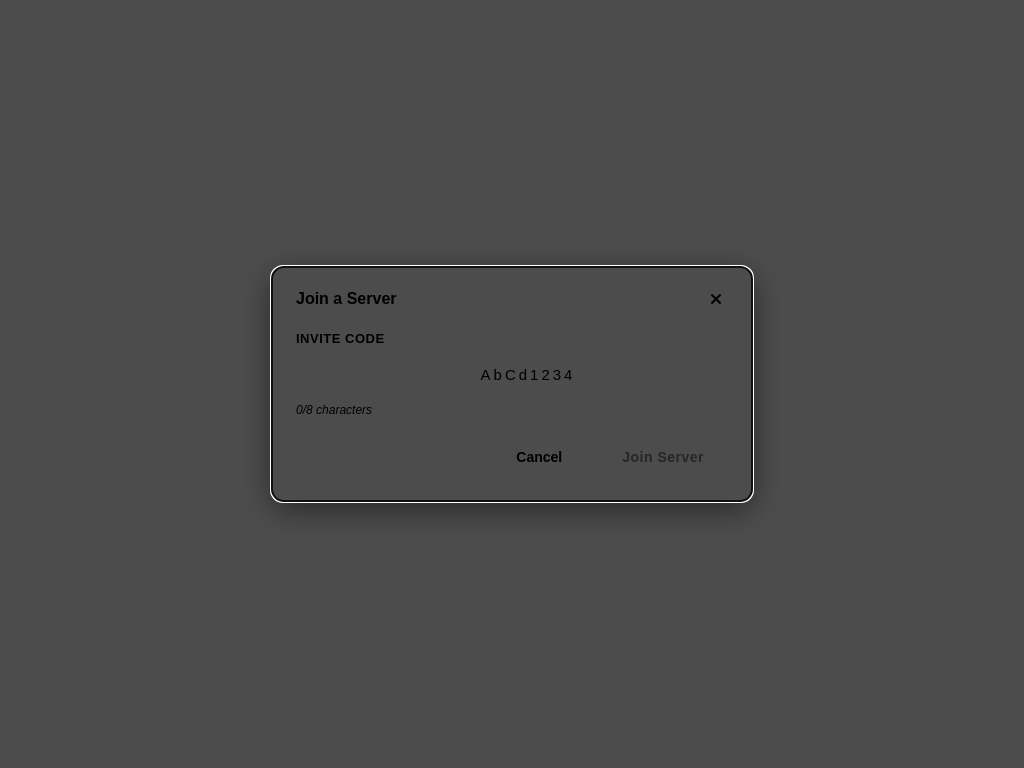
Test: JoinServerModal › shows an invalid invite message when preview returns invalid
Type "ABCDEFGH" into the field with placeholder "AbCd1234". click: x=528, y=374
box: [296,354,760,395]
Wait 300 ms
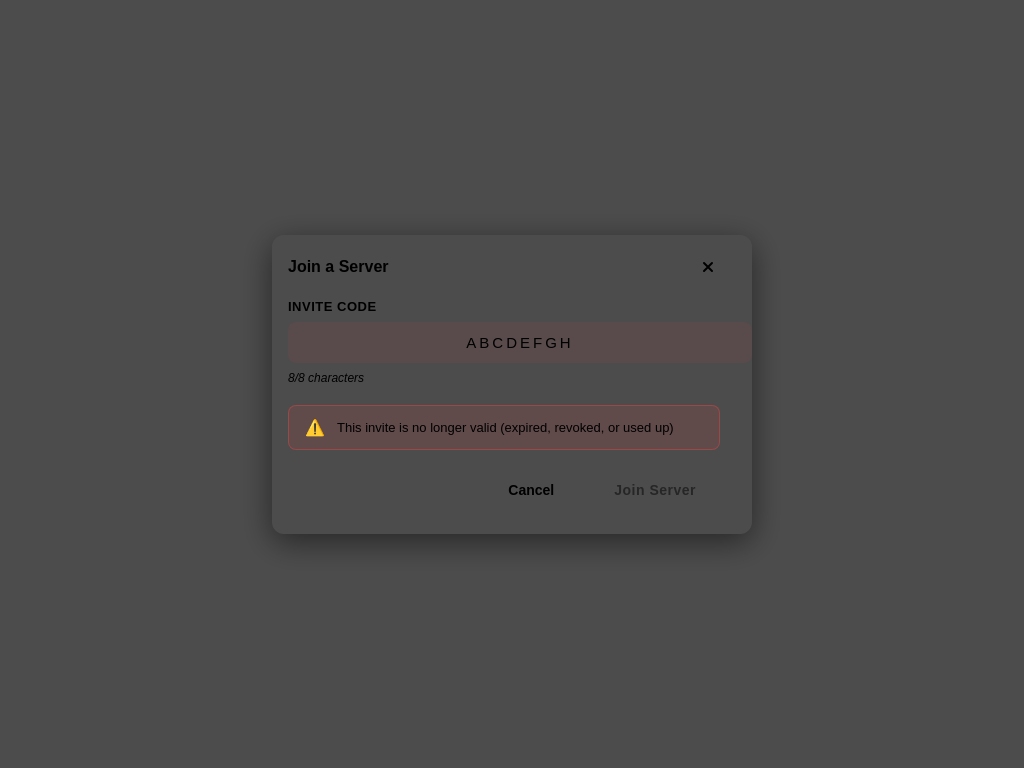
Check: the text "This invite is no longer valid (expired, revoked, or used up)" is shown, box [337,420,674,434]
